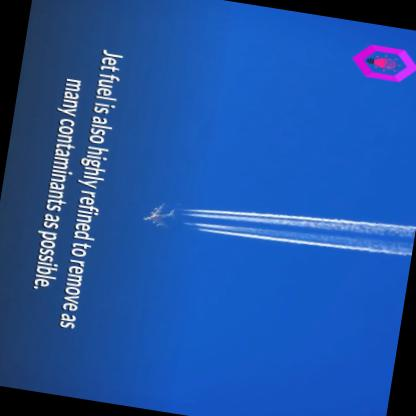plane: (134, 196, 185, 240)
